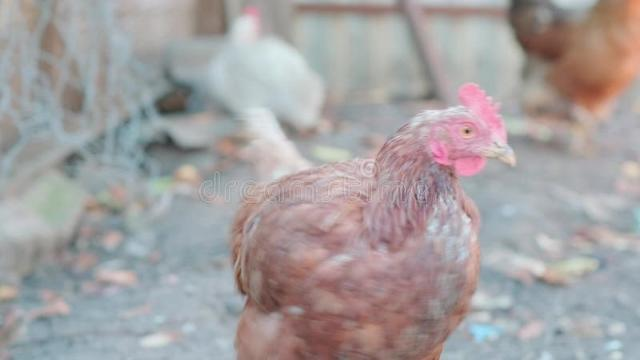Chicken: (233, 82, 517, 360)
